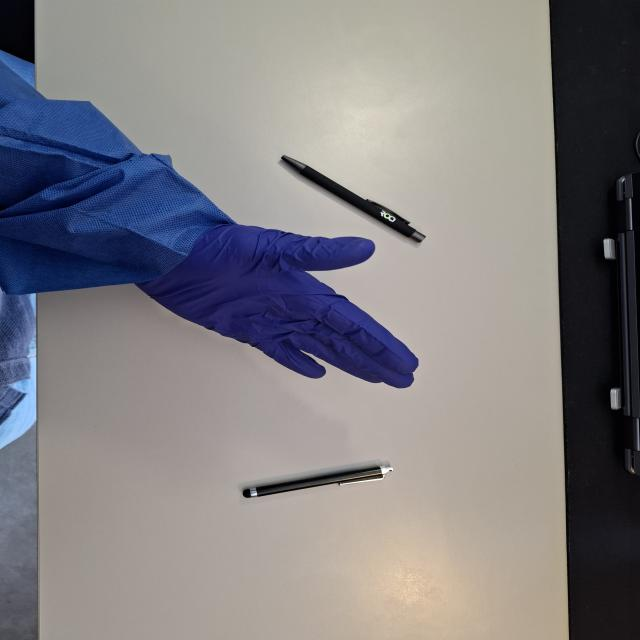glove_on: (131, 217, 419, 386)
